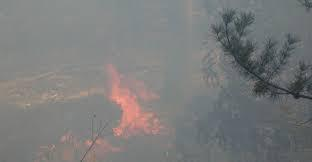fire: (104, 61, 163, 136), (53, 128, 122, 159)
